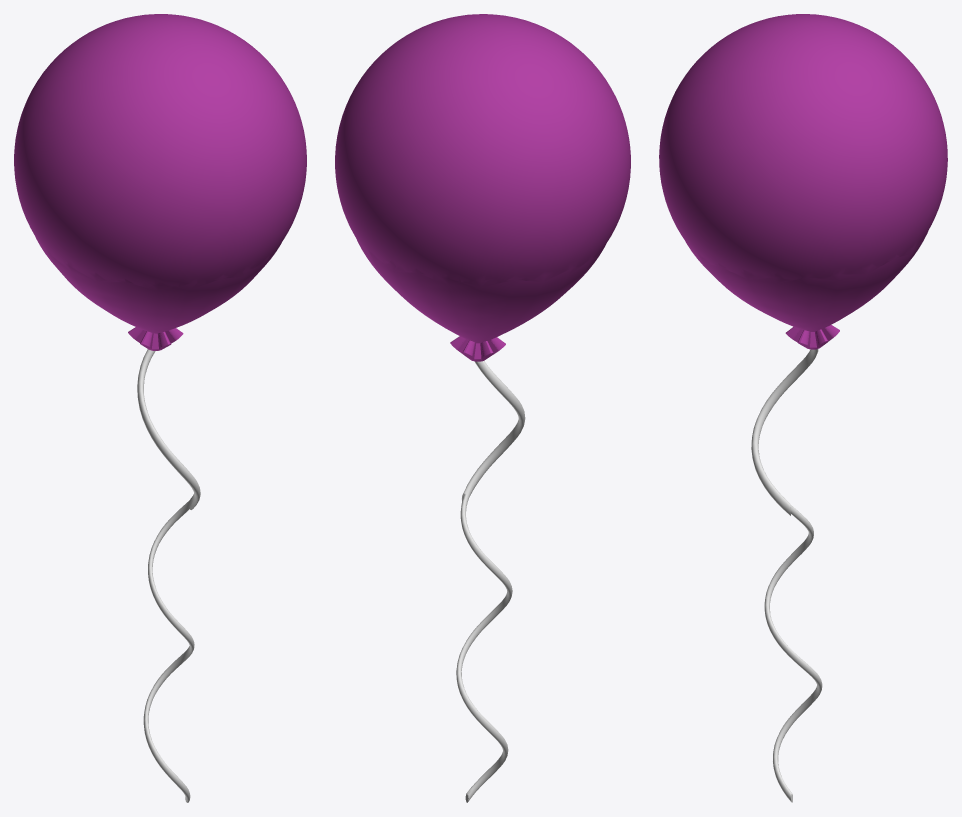
Rendered from balloon-5.glb.
3 views of the same model, side by side, from view 1: azimuth 30°, elevation 25°; view 2: azimuth 150°, elevation 25°; view 3: azimuth 270°, elevation 25° (orthographic). The views are drawn at different scales.
Visible parts, largest first — view 1: group_0_15277357, group_0_6383466; view 2: group_0_15277357, group_0_6383466; view 3: group_0_15277357, group_0_6383466.
Part boxes in pixels (left/top/right/bottom): group_0_15277357: left=14, top=14, right=306, bottom=350; group_0_6383466: left=137, top=349, right=200, bottom=802; group_0_15277357: left=335, top=14, right=630, bottom=361; group_0_6383466: left=456, top=361, right=525, bottom=802; group_0_15277357: left=659, top=14, right=947, bottom=349; group_0_6383466: left=751, top=349, right=822, bottom=802.
Size of the model in its own units: 0.6252 by 1.83 by 0.625.
